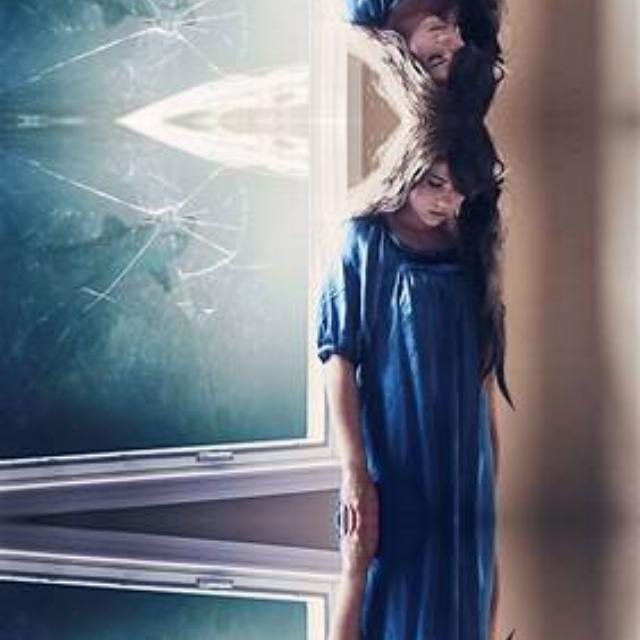person: (302, 120, 510, 520), (302, 519, 510, 640), (302, 0, 510, 119)
